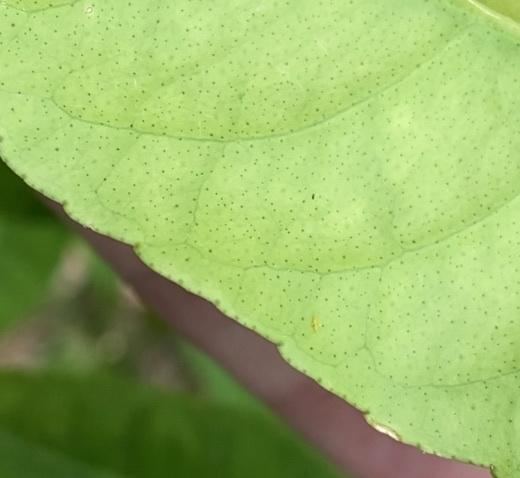tiny_pests: (307, 309, 322, 336)
